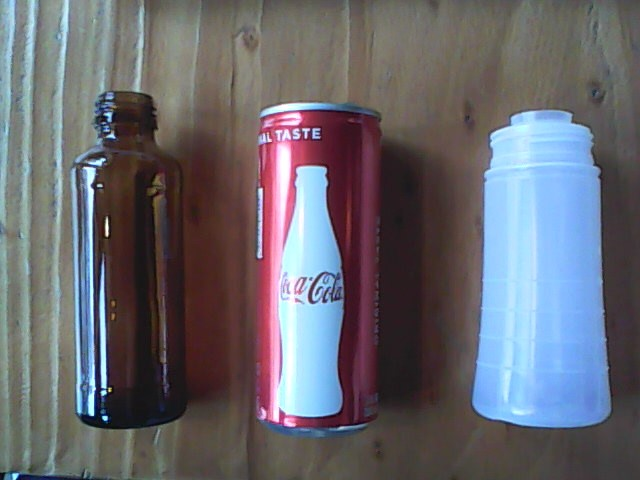Can: (246, 87, 387, 445)
Glass: (66, 83, 195, 434)
Plastic: (463, 101, 620, 438)
